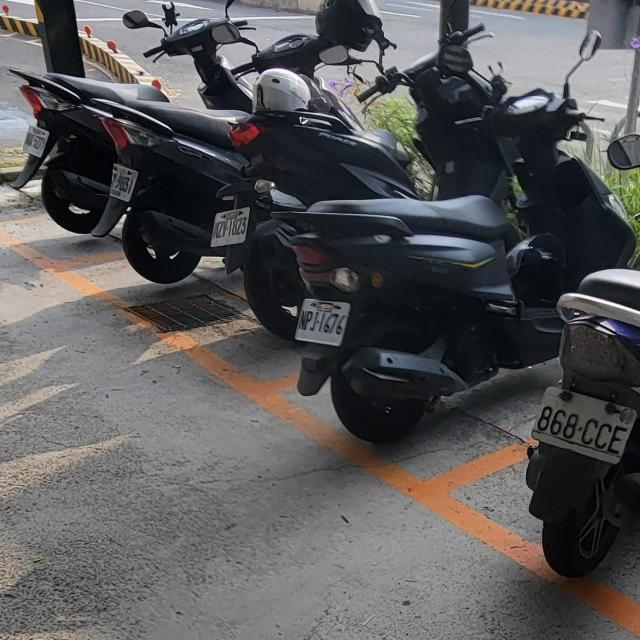W: (530, 384, 637, 464), (295, 296, 350, 347), (209, 206, 251, 250), (107, 162, 137, 203), (21, 124, 49, 159)
